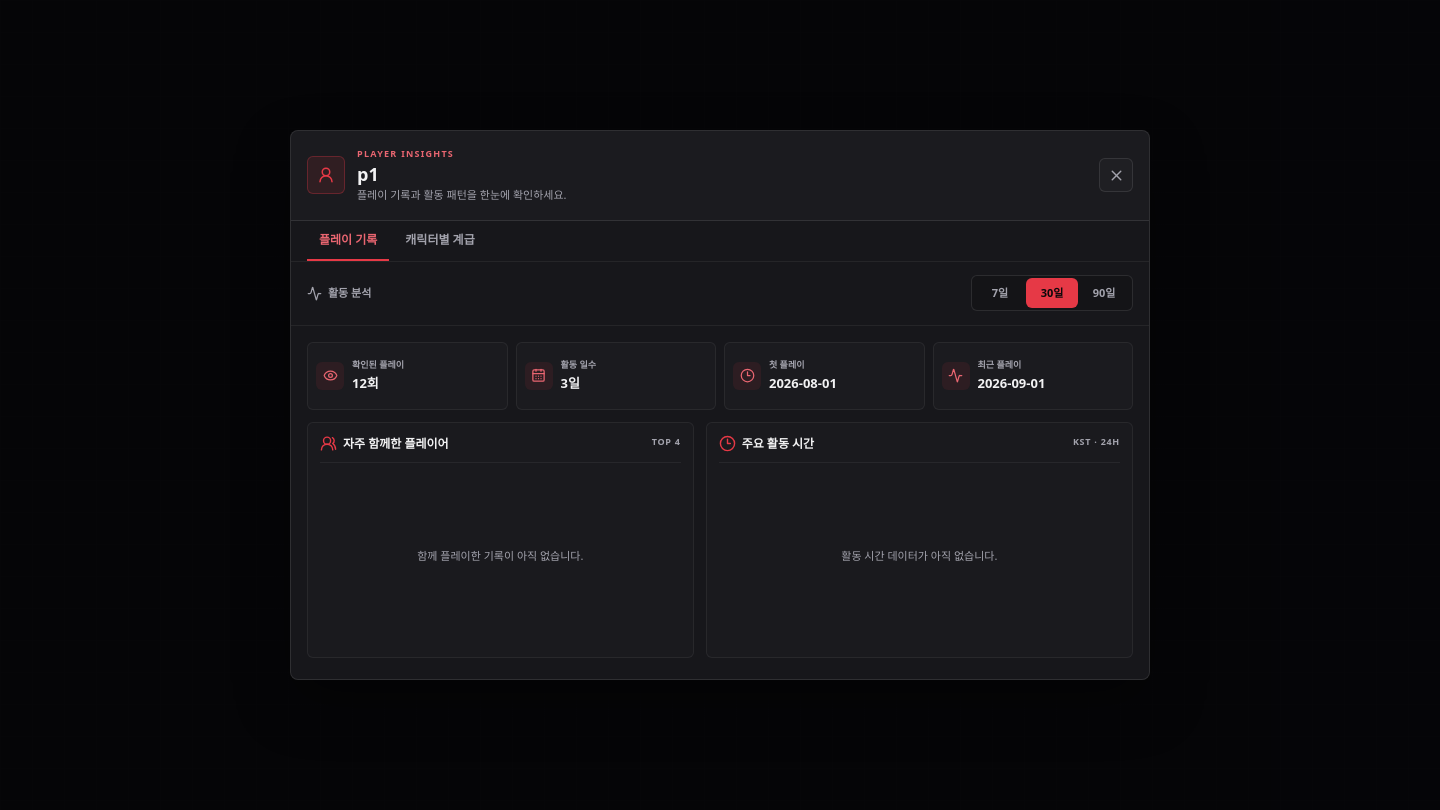
PlayerHistoryPanel tabs › opens on the play history and reads the save only once its tab is chosen
Check: the text "12회" is shown, box [352,374,379,392]
Click the tab "캐릭터별 계급" at (440, 240), box [393,220,487,260]
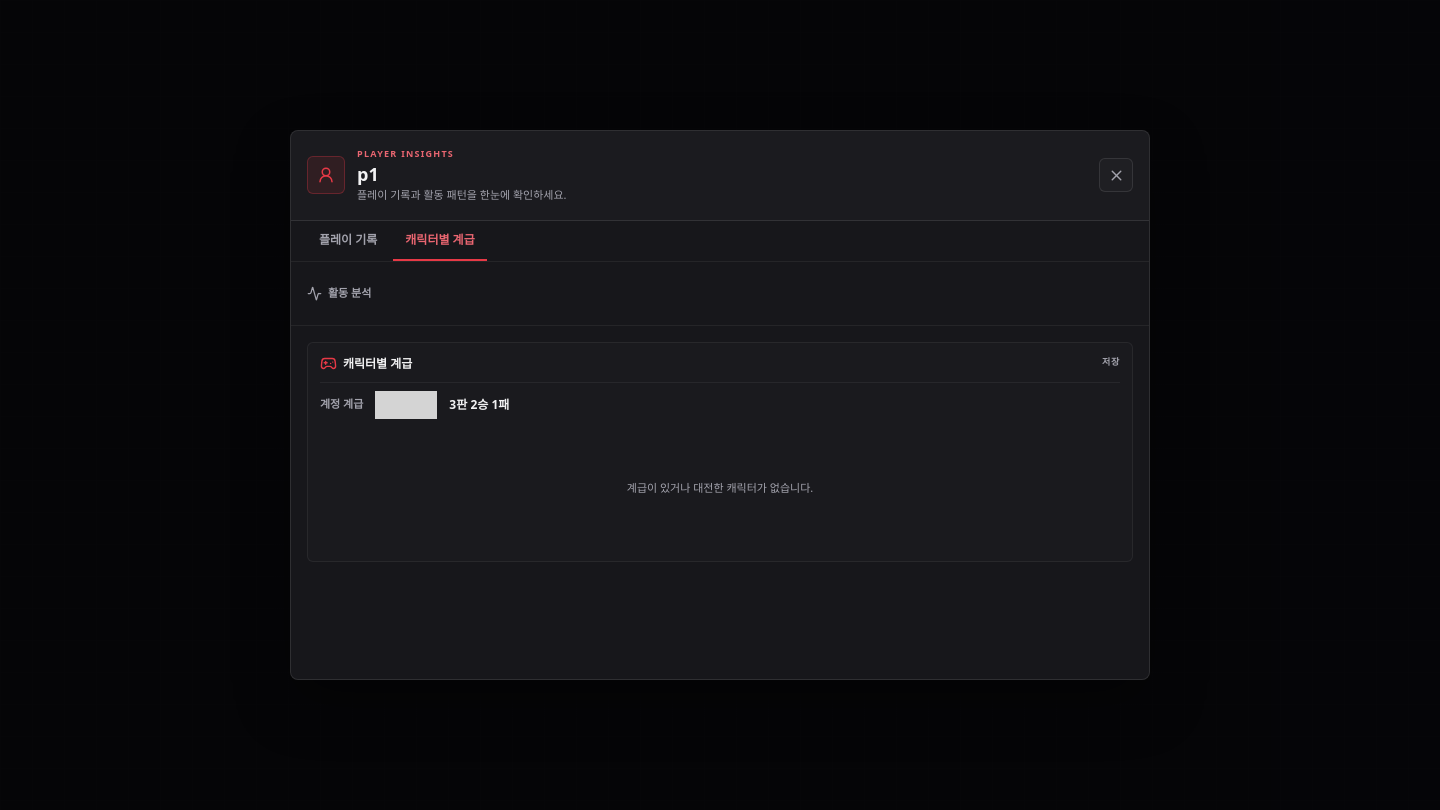
Check: the text "3판 2승 1패" is shown, box [449,396,509,414]
